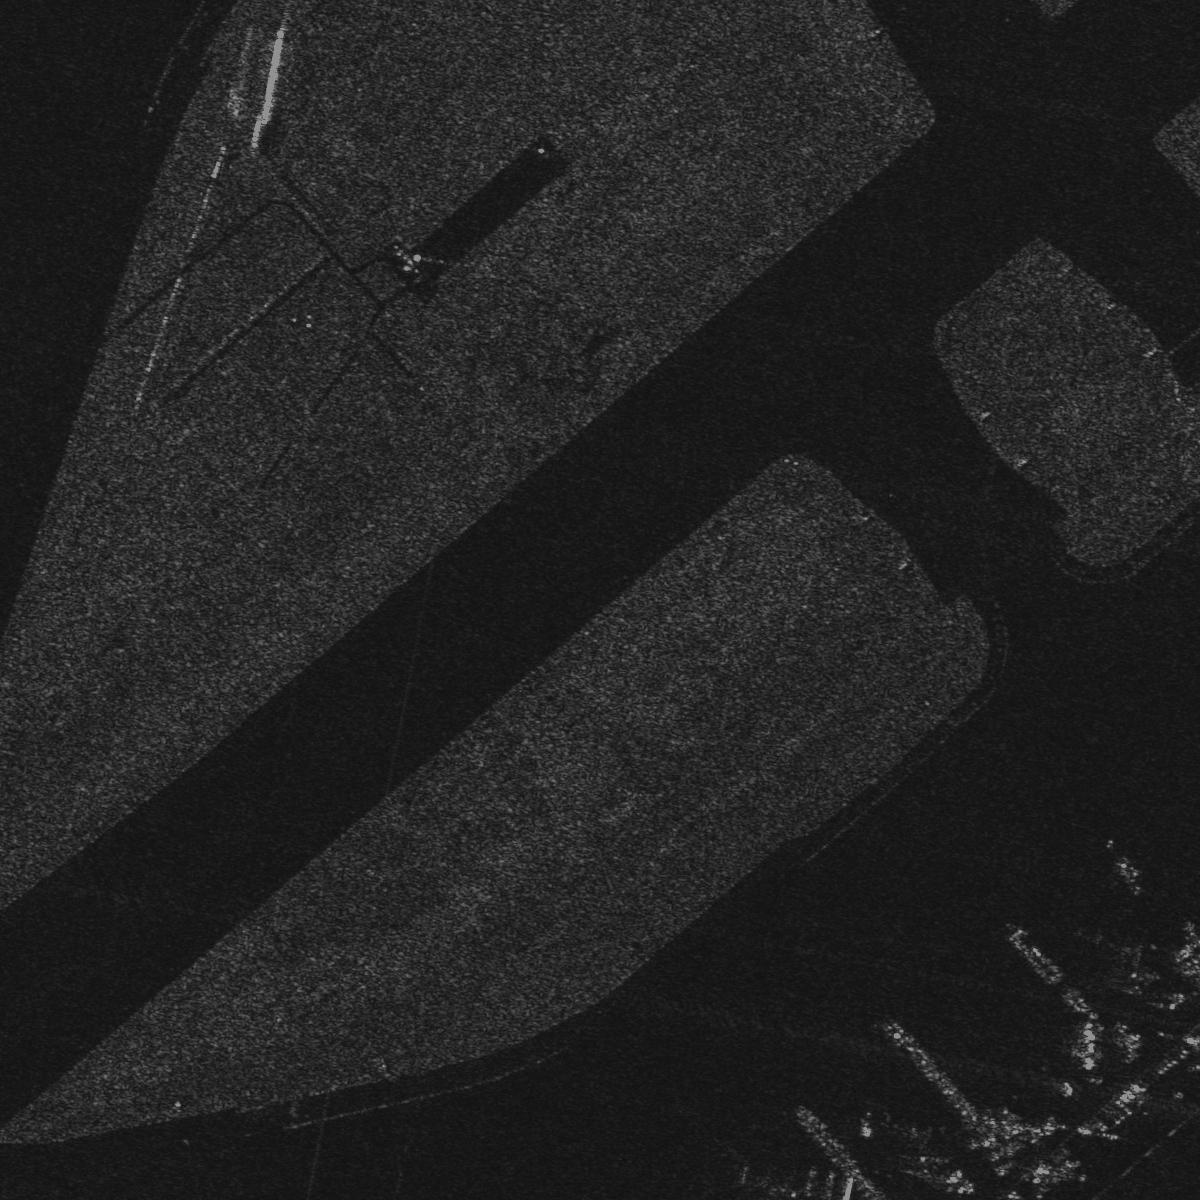Boeing787: (863, 1105, 959, 1184)
other: (1079, 927, 1160, 1001)
